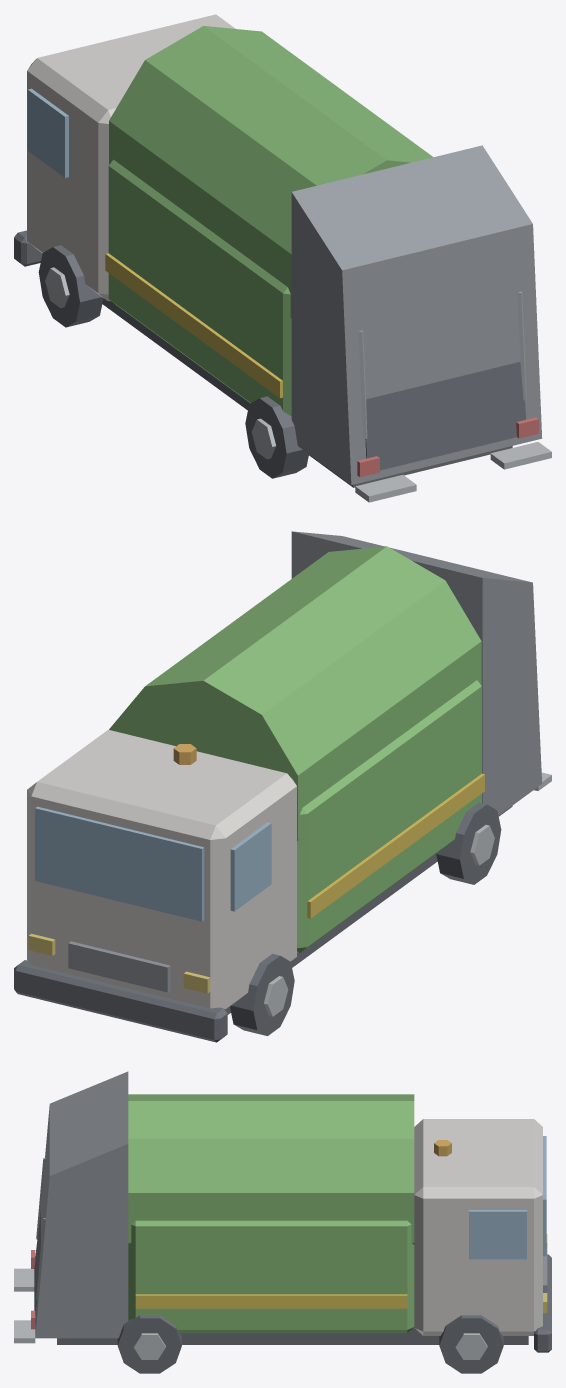
The model's file is veiculos__caminhao_lixo.glb.
The picture shows the model from 3 angles, top to bottom: view 1: azimuth 30°, elevation 25°; view 2: azimuth 150°, elevation 25°; view 3: azimuth 270°, elevation 25°; orthographic projection. The views are drawn at different scales.
Parts seen in each view (by area): view 1: veiculos__caminhao_lixo; view 2: veiculos__caminhao_lixo; view 3: veiculos__caminhao_lixo.
Part boxes in pixels (x1,y1,x2,y2): veiculos__caminhao_lixo: (14, 14, 551, 502); veiculos__caminhao_lixo: (14, 531, 551, 1042); veiculos__caminhao_lixo: (14, 1071, 551, 1373).
Size of the model in its own units: 0.56 by 0.7156 by 1.5.
